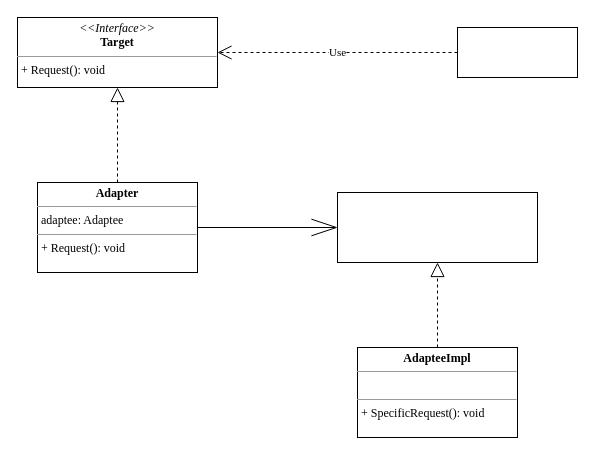
Some shapes in this 595 by 455 pixel diagram are drawn without their labels. The shapes that lost their labels are listed below. From the top down, each one's centre as x and y in pixels, then its label:
At (517,52): "Client".
At (437,227): "<<Interface>> Adaptee + SpecificRequest(): void".
